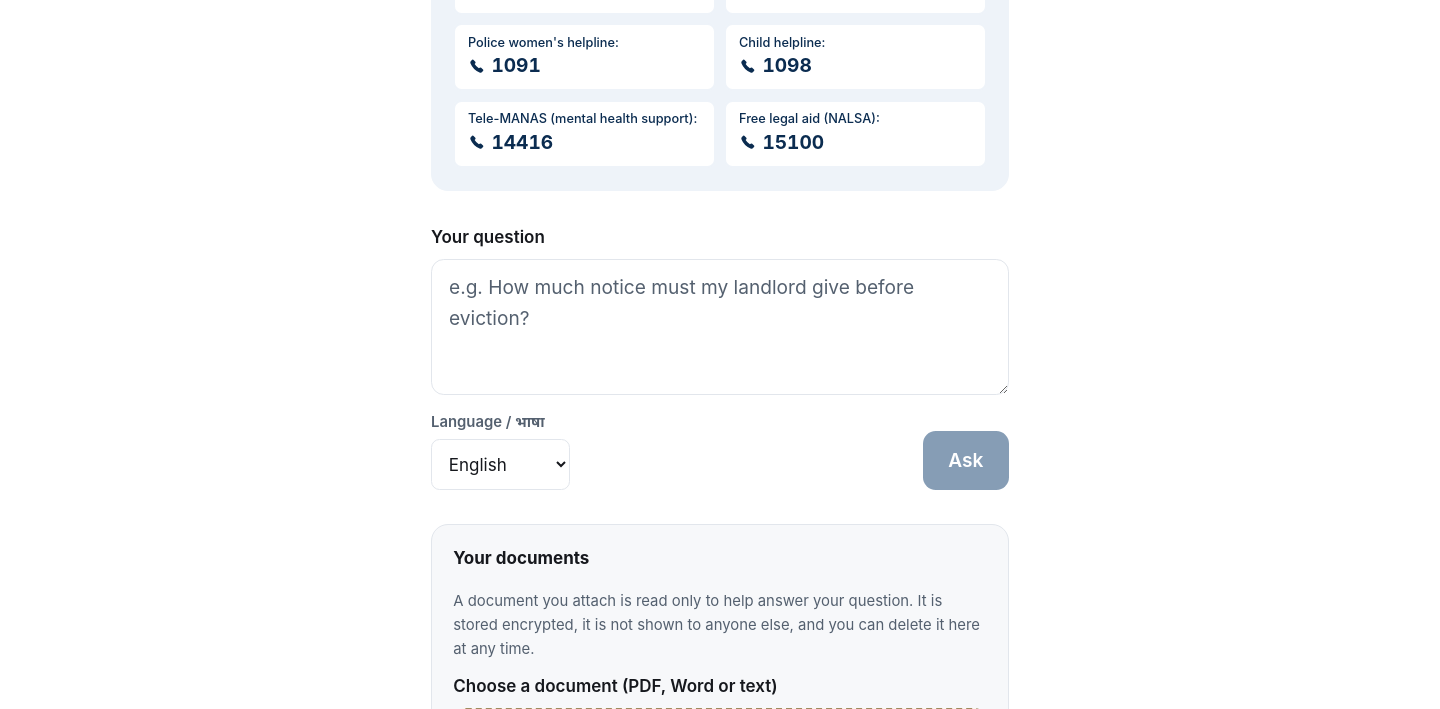
Test case: HomePage › shows a plain error message, not a stack trace, when the network fails
(page scrolled)
Step 1. Type "q" into the text box labelled "Your question" → (720, 326), box [431,258,1009,394]
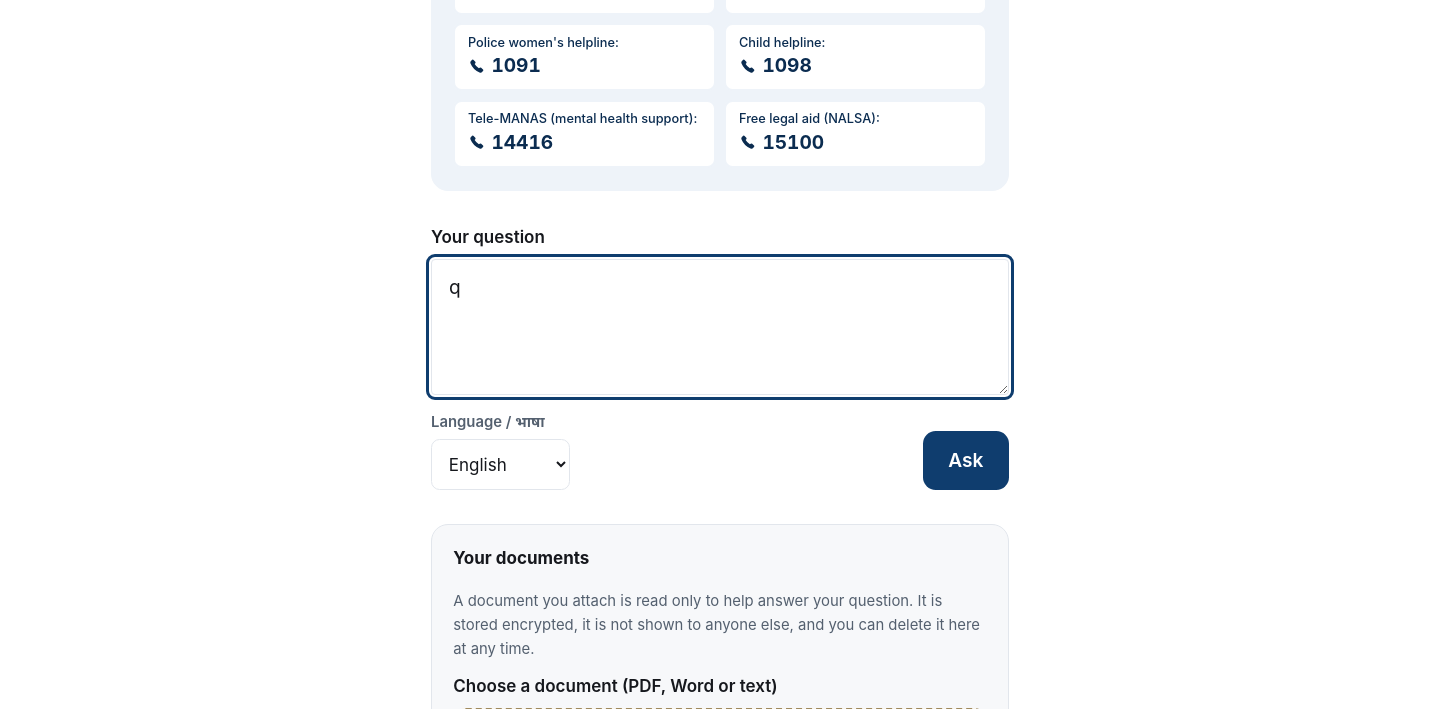
Step 2. Click the button "Ask" → (966, 460), box [923,431,1009,490]
(page scrolled)
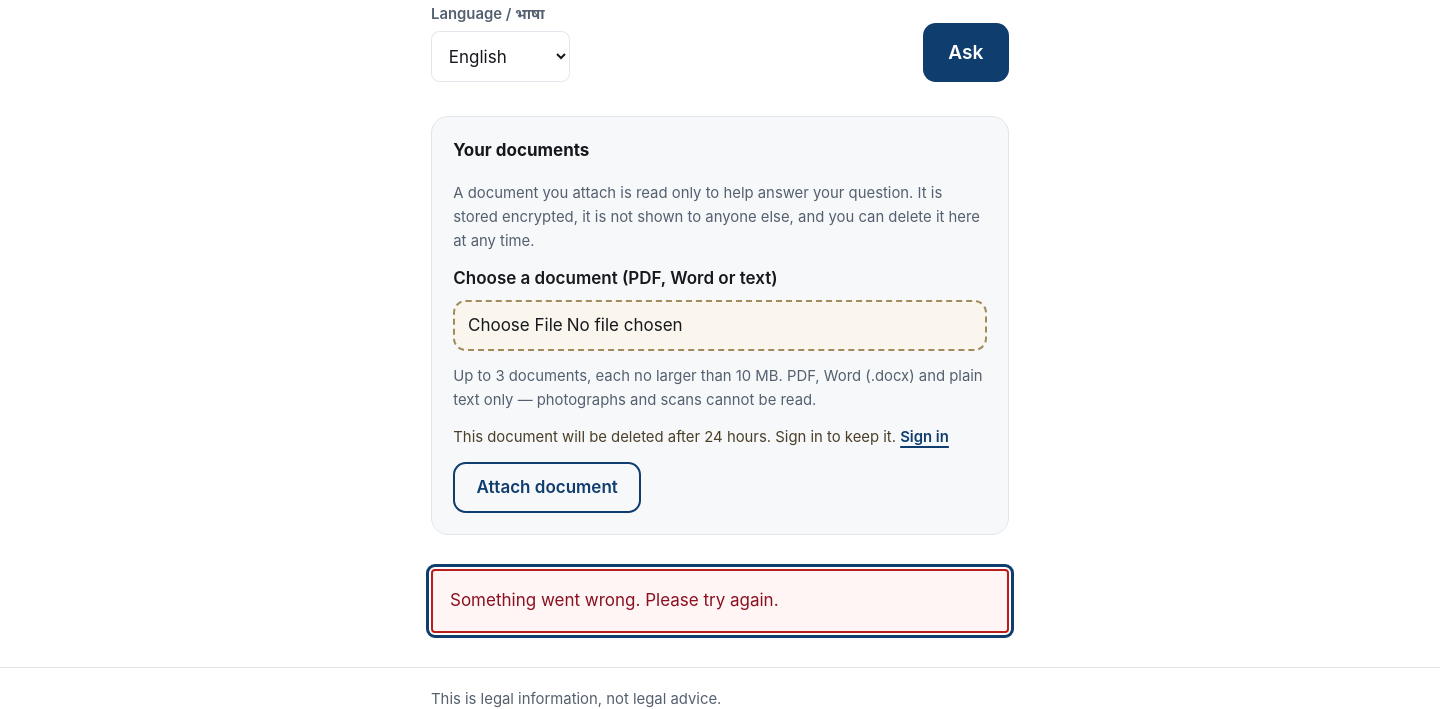
Result: the message shows "Something went wrong" at [450,590,779,610]
